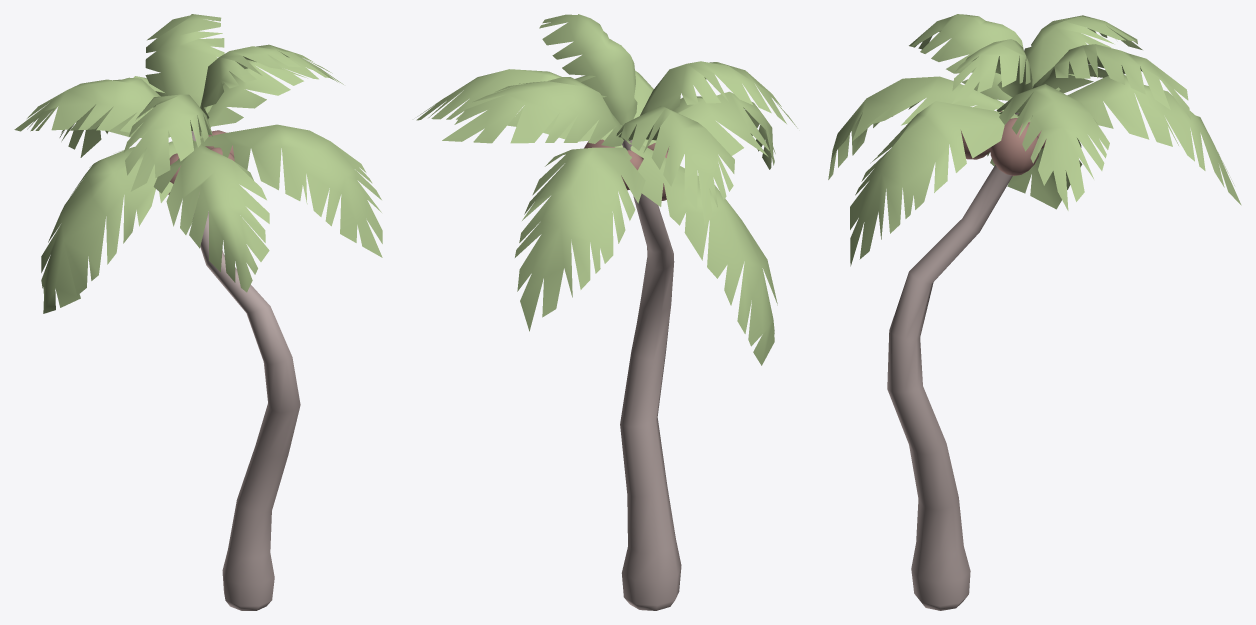
Rendered from palmtree.fbx.
3 views of the same model, side by side, from view 1: azimuth 30°, elevation 25°; view 2: azimuth 150°, elevation 25°; view 3: azimuth 270°, elevation 25° (orthographic). The views are drawn at different scales.
Visible parts, largest first — view 1: palmtree; view 2: palmtree; view 3: palmtree.
Part boxes in pixels (x1,y1,x2,y2): palmtree: [14, 14, 382, 610]; palmtree: [416, 14, 797, 610]; palmtree: [828, 14, 1241, 610].
Bounding box in the file's own units: 322 × 527 × 343.
